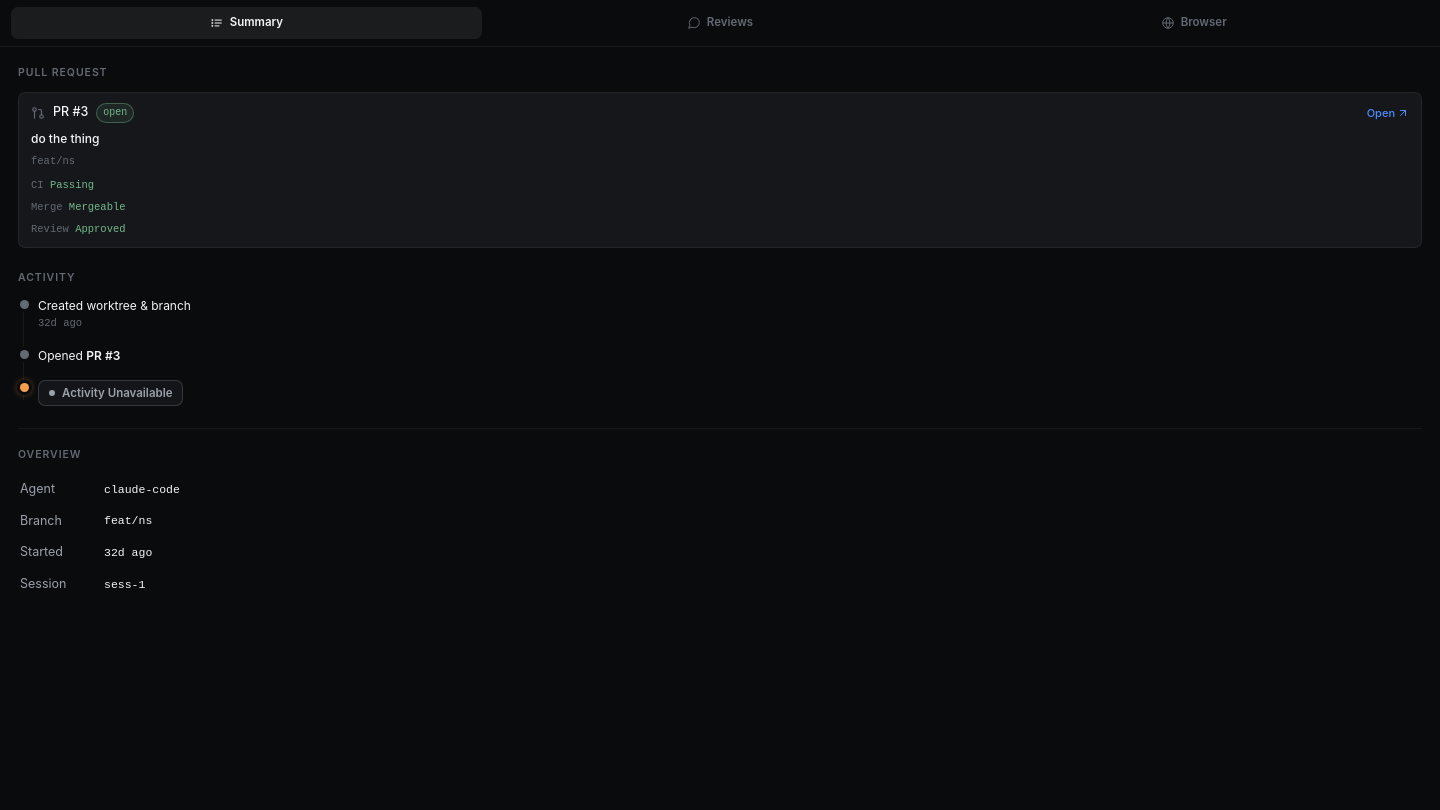
Scenario: SessionInspector reviews tab › shows failed latest runs as failed and still allows rerun
This screenshot has width=1440, height=810.
Step 1. Click the tab "Reviews" → (720, 23), box [485,7,955,39]
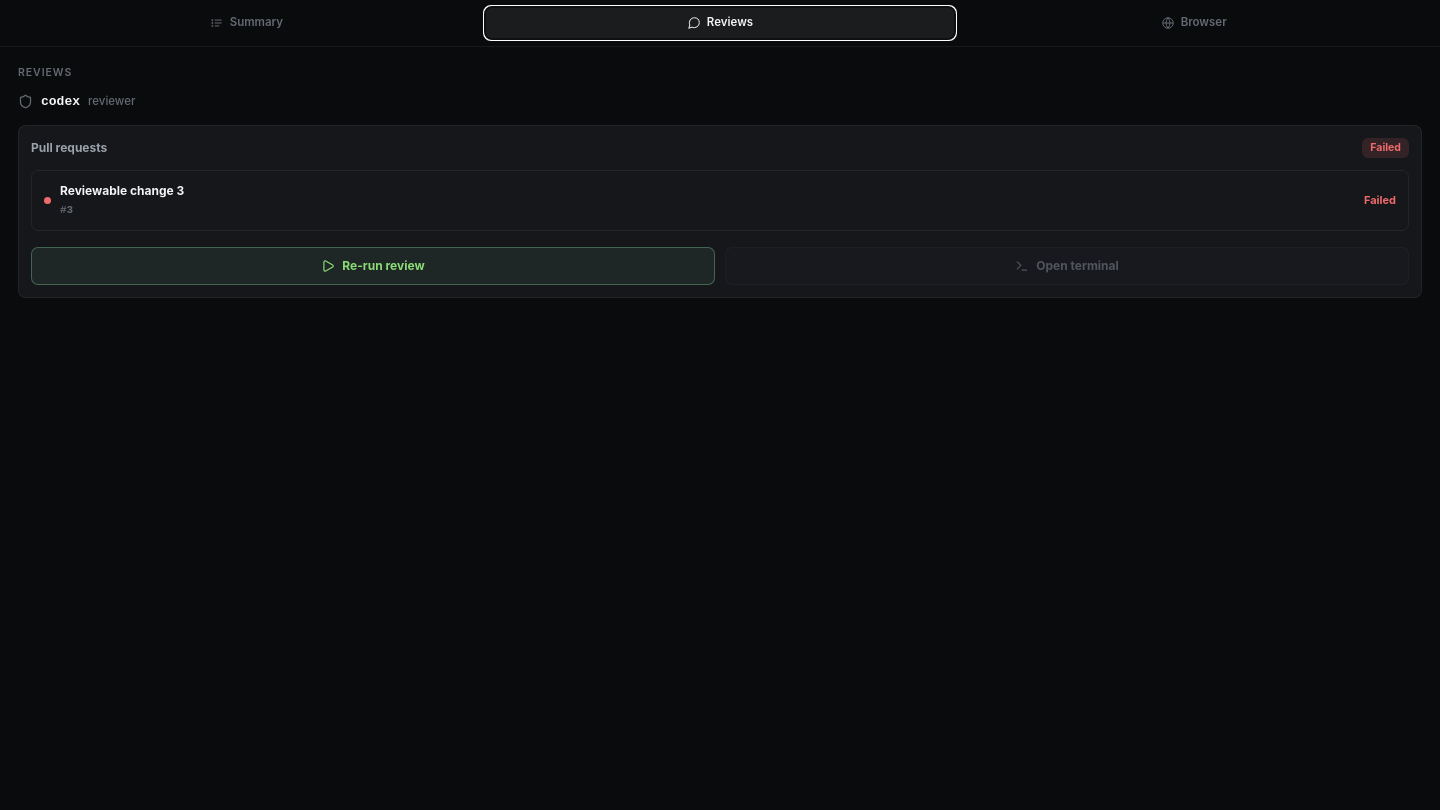
Now the button "Re-run review" is enabled, box [31,247,715,285]
